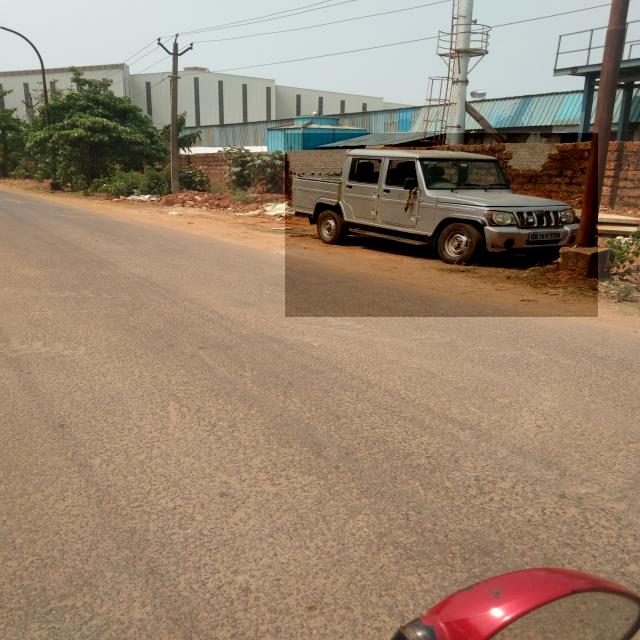Travller: (285, 134, 598, 318)
